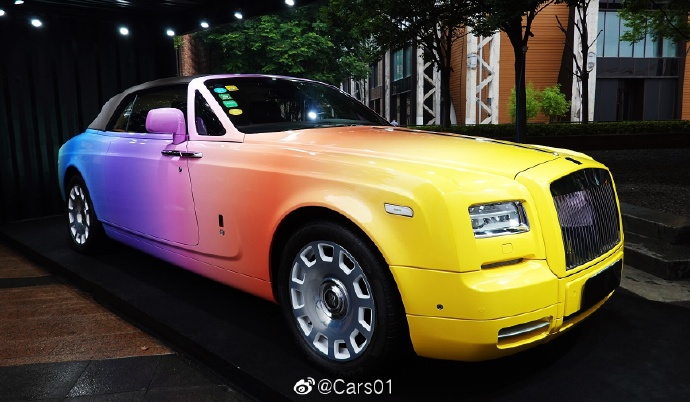other: (56, 69, 626, 366)
